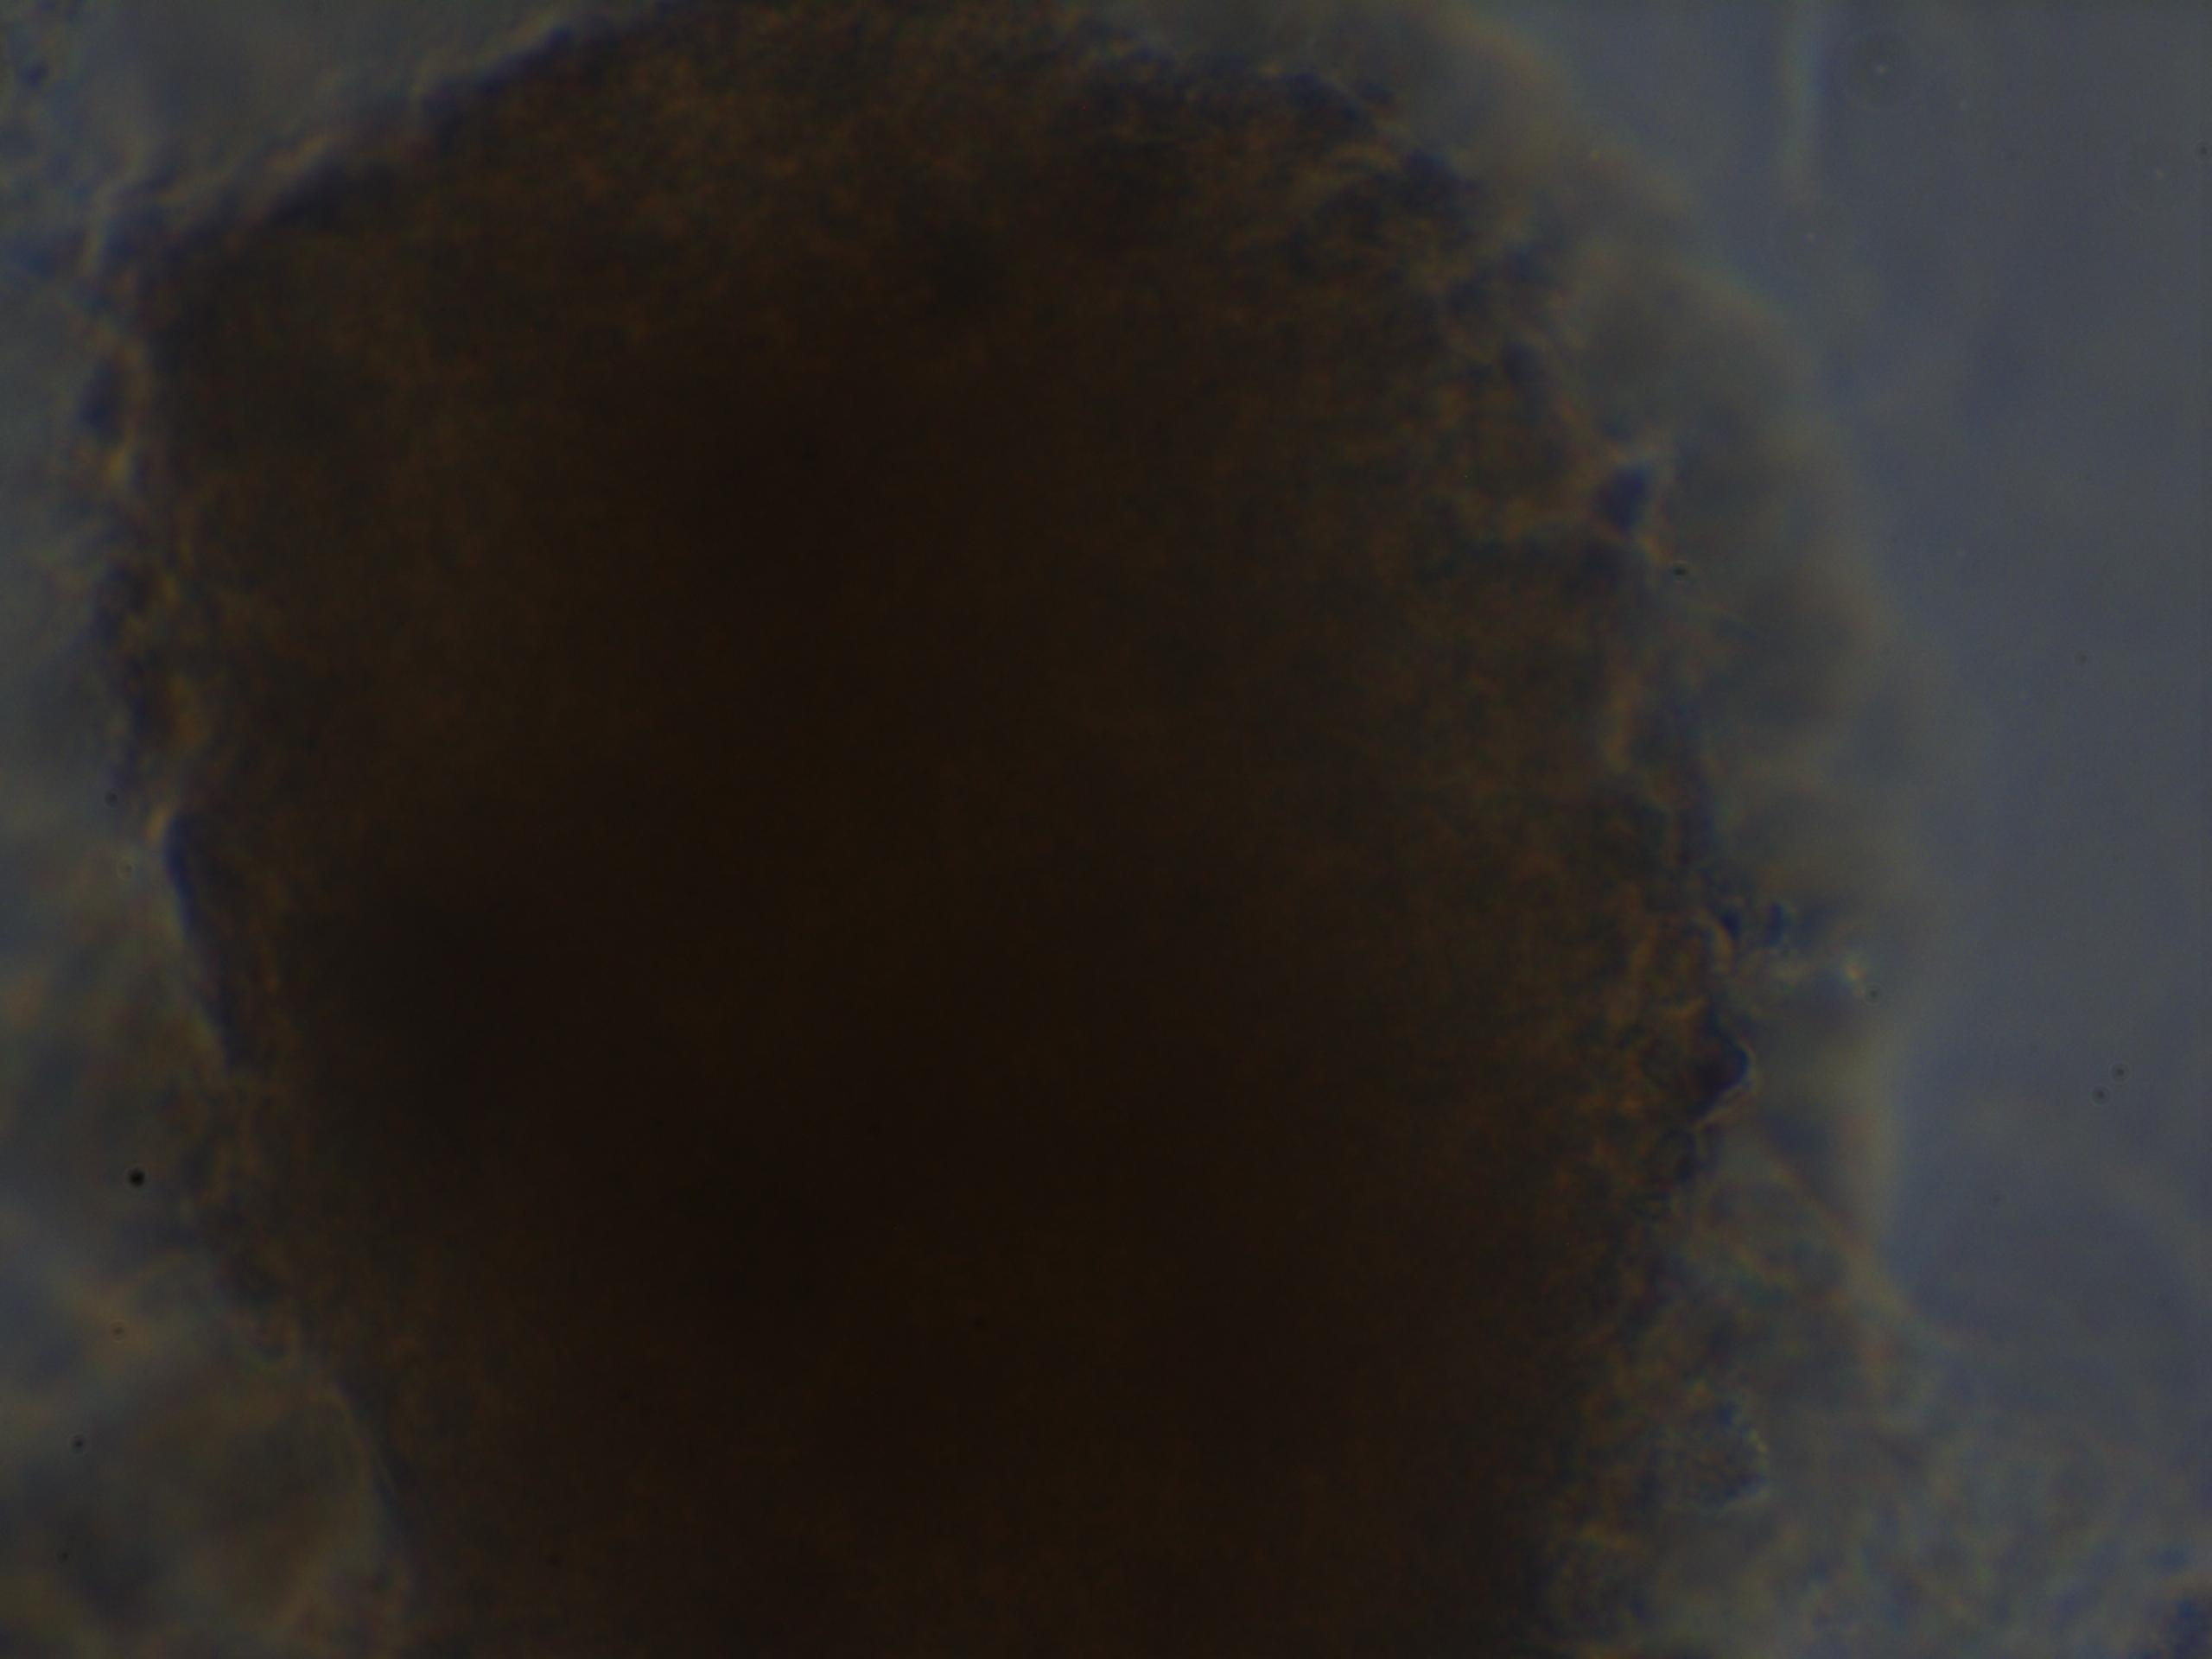spherical_floc: (115, 0, 1764, 1657)
